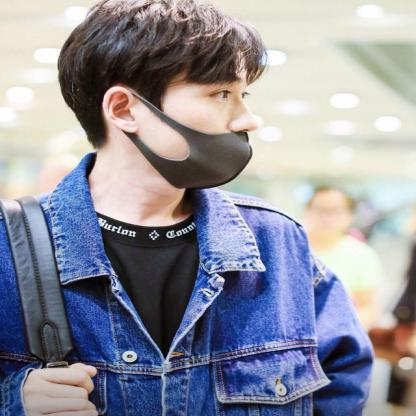Wearing_Mask: (144, 74, 258, 188)
